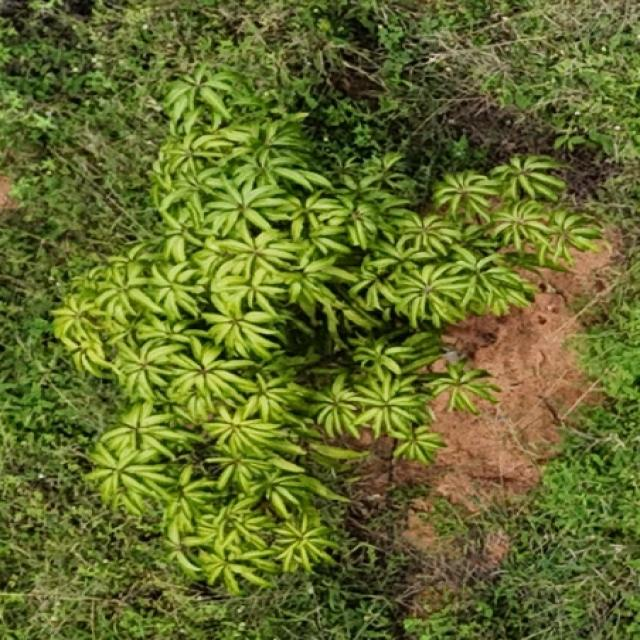mangoTree: (43, 53, 601, 597)
